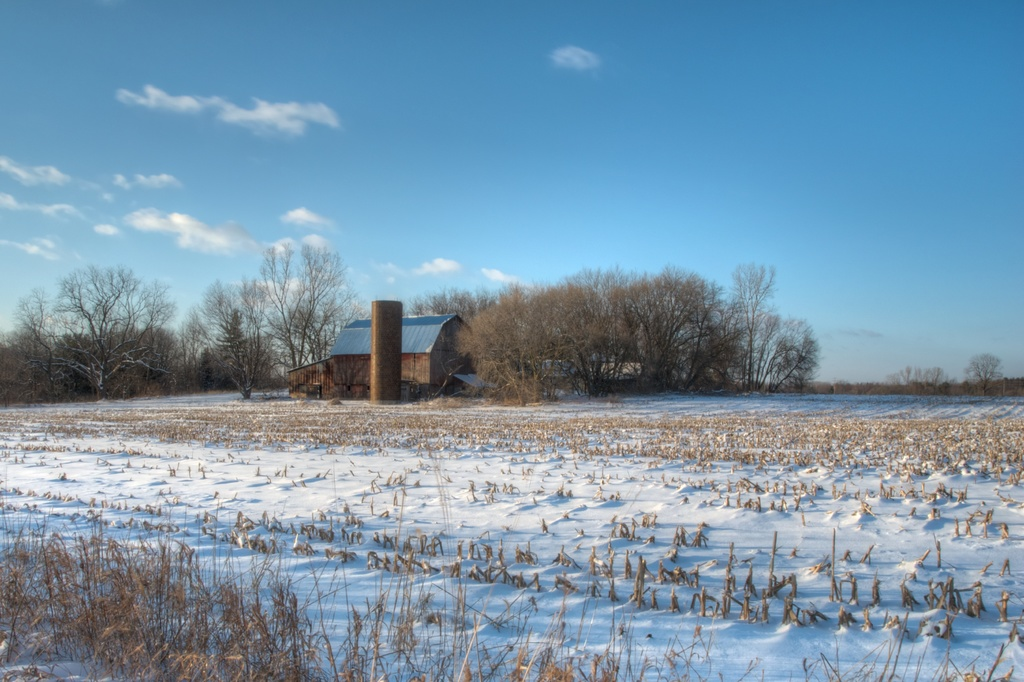Tree: (0, 245, 821, 395), (967, 353, 1007, 395)
